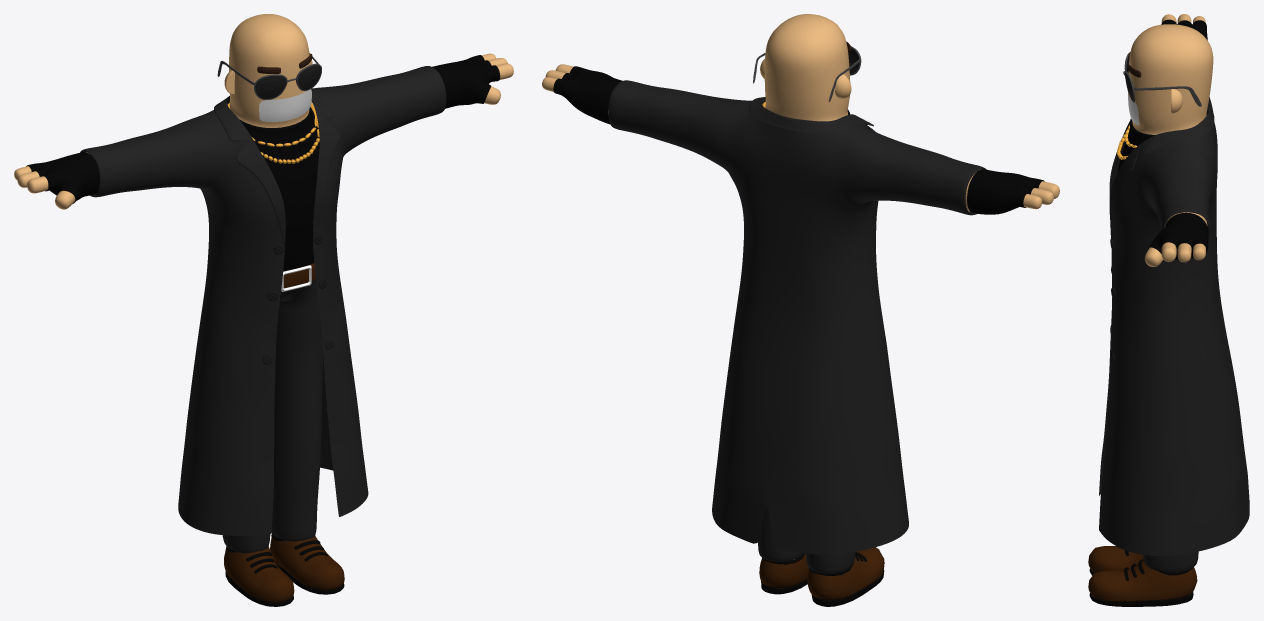
File: Boss.fbx
The picture shows the model from 3 angles, left to right: view 1: azimuth 30°, elevation 25°; view 2: azimuth 150°, elevation 25°; view 3: azimuth 270°, elevation 25°; orthographic projection. The views are drawn at different scales.
Visible parts, largest first — view 1: Jacket, Pant, body, Shoes, body.001, body.003, Glasses, Mouth, Pant.001; view 2: Jacket, body, body.003, Shoes, Pant; view 3: Jacket, body, Shoes, body.003, Pant, Glasses, body.001, body.005.
Part boxes in pixels (<box>): Jacket: <box>80,66,446,535</box>; Pant: <box>222,280,323,553</box>; body: <box>14,14,513,209</box>; Shoes: <box>224,533,344,606</box>; body.001: <box>228,101,319,271</box>; body.003: <box>26,55,500,203</box>; Glasses: <box>217,53,321,99</box>; Mouth: <box>259,89,311,121</box>; Pant.001: <box>281,263,315,291</box>; Jacket: <box>608,80,986,554</box>; body: <box>542,14,1059,559</box>; body.003: <box>553,66,1044,214</box>; Shoes: <box>759,547,884,606</box>; Pant: <box>758,506,855,573</box>; Jacket: <box>1099,97,1249,555</box>; body: <box>1128,14,1213,266</box>; Shoes: <box>1088,546,1197,606</box>; body.003: <box>1148,19,1208,261</box>; Pant: <box>1143,551,1198,572</box>; Glasses: <box>1123,52,1201,106</box>; body.001: <box>1117,110,1208,172</box>; body.005: <box>1171,89,1182,113</box>.
Bounding box in the file's own units: 875 × 945 × 249.
